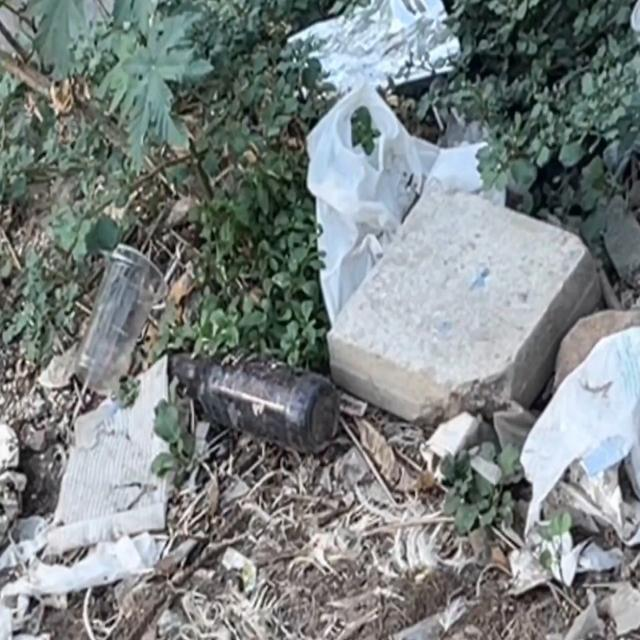paper: (10, 458, 172, 634)
plastic: (275, 83, 497, 252), (84, 243, 182, 405)
